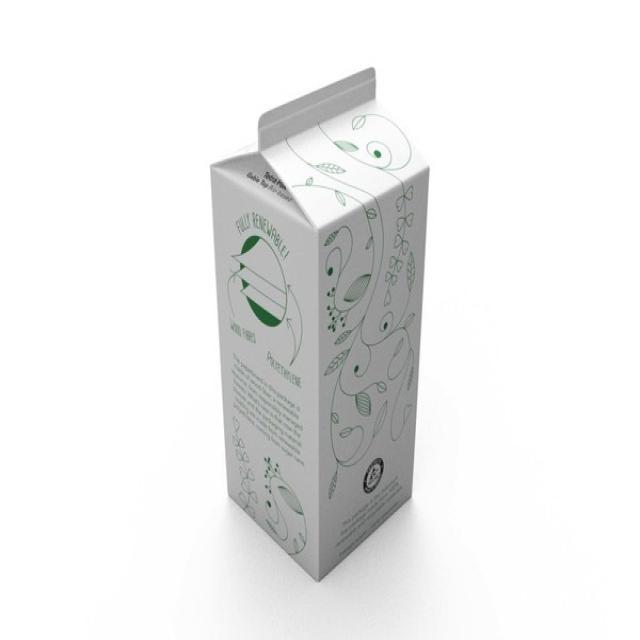Carton: (186, 61, 438, 606)
